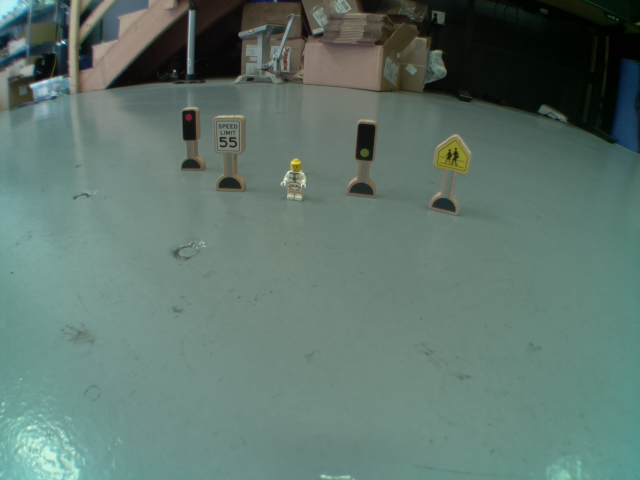Green Traffic Light: (353, 118, 380, 164)
Red Traffic Light: (178, 106, 200, 143)
Speed Limit 55: (212, 114, 248, 157)
YIELD: (432, 125, 473, 173)
person: (278, 157, 311, 202)
